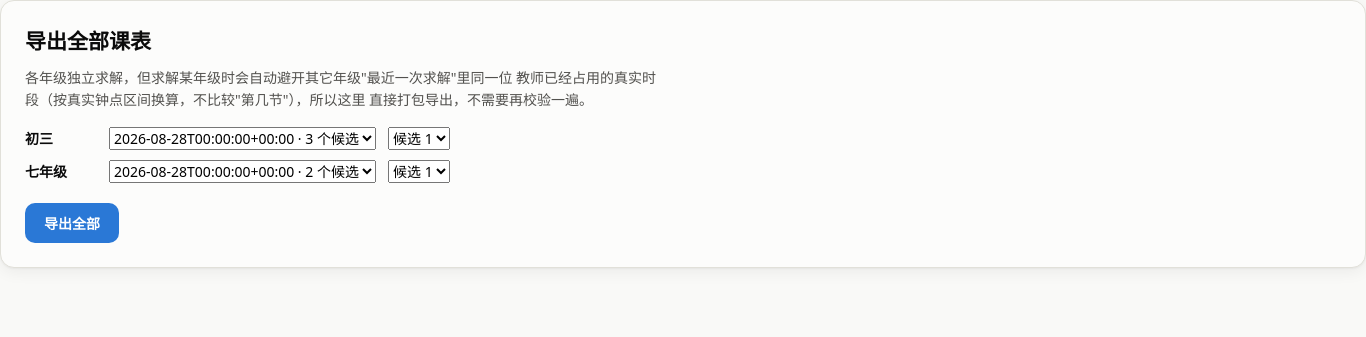
ExportAllSettings › exports directly without a separate check step
Click the button with test id "export-button" at (72, 223), box [25,203,119,243]
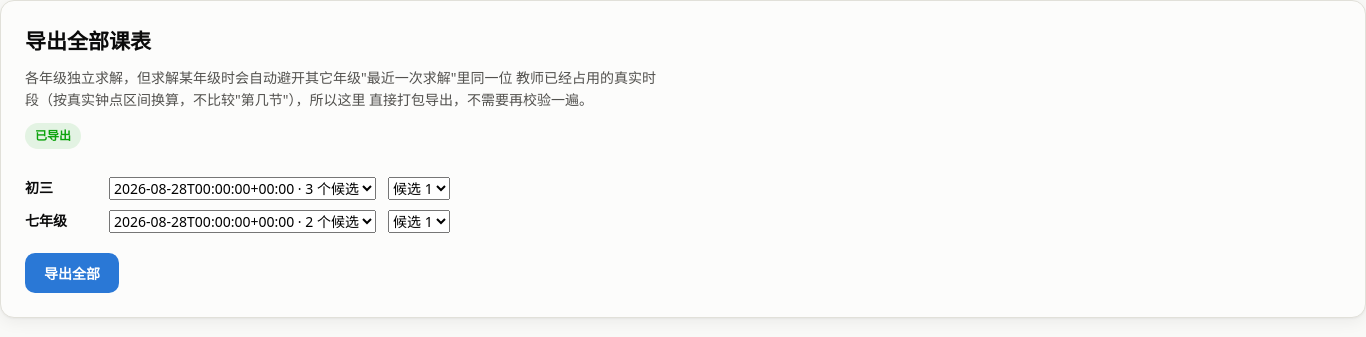
Expected: the text with test id "notice" reads "已导出", [35,127,71,144]
